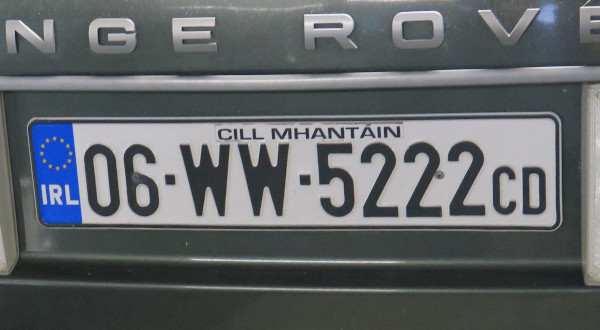license_plate: (26, 117, 563, 234)
